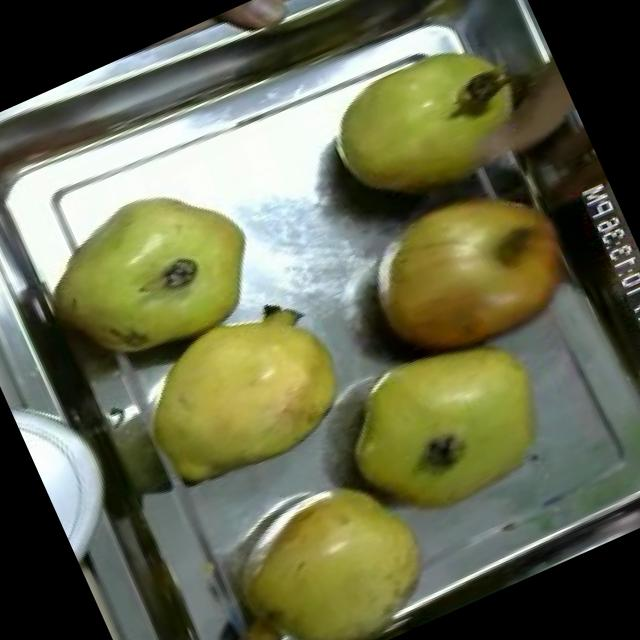fruit: (92, 266, 380, 522), (314, 304, 584, 550), (20, 154, 288, 394), (335, 152, 599, 392), (182, 440, 470, 640)
